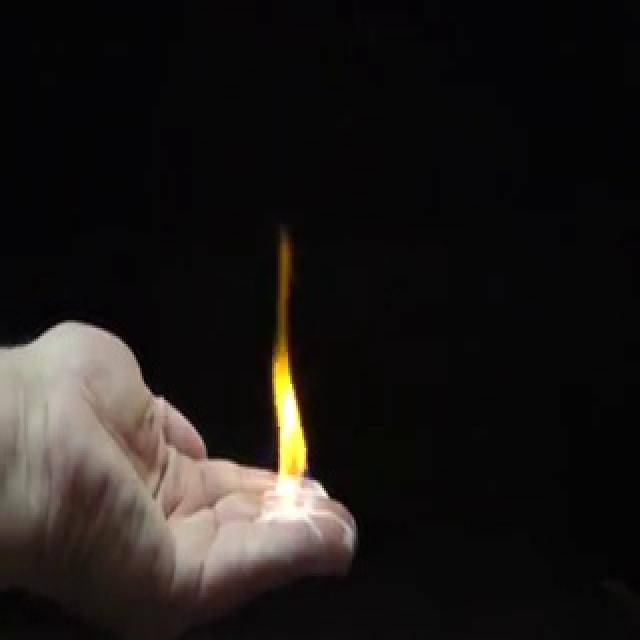fire: (262, 346, 314, 515)
